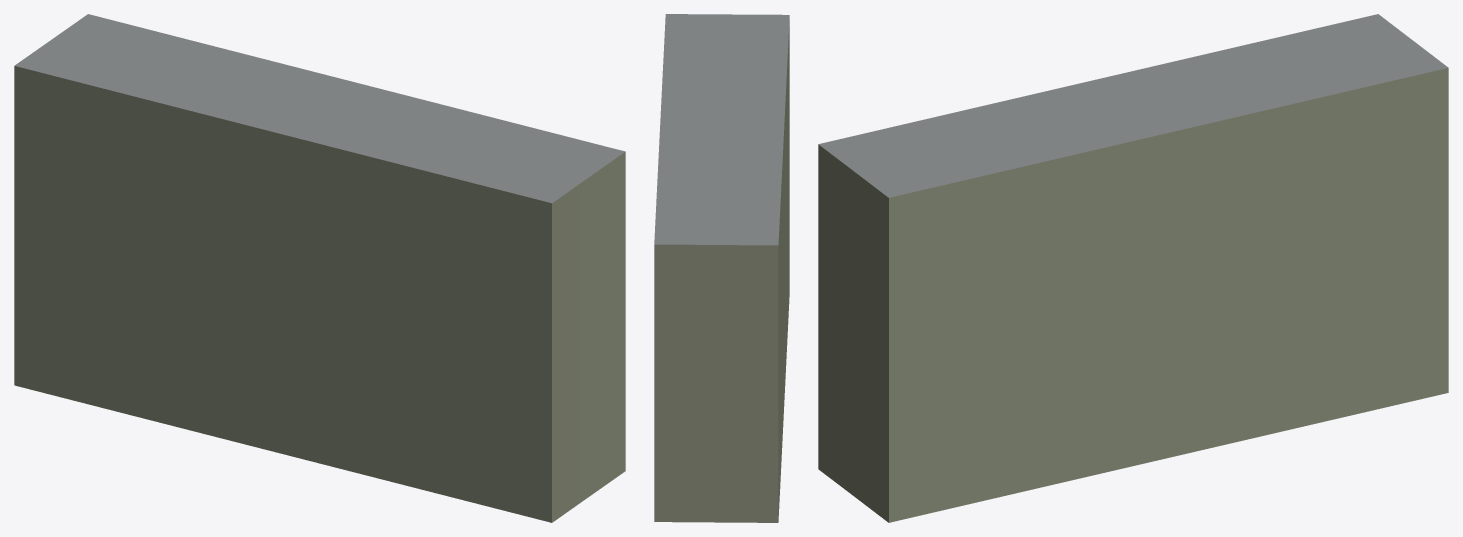
Rendered from nyc-1015252-0.glb.
3 renders of one model, left to right at view 1: azimuth 30°, elevation 25°; view 2: azimuth 150°, elevation 25°; view 3: azimuth 270°, elevation 25°, orthographic. The views are drawn at different scales.
Visible parts, largest first — view 1: nyc-1015252-0; view 2: nyc-1015252-0; view 3: nyc-1015252-0.
Boxes of the visible parts, <box> form: nyc-1015252-0: <box>14,14,625,522</box>; nyc-1015252-0: <box>654,14,789,522</box>; nyc-1015252-0: <box>818,14,1448,522</box>.
Bounding box in the file's own units: 22.32 × 18.39 × 32.33.
